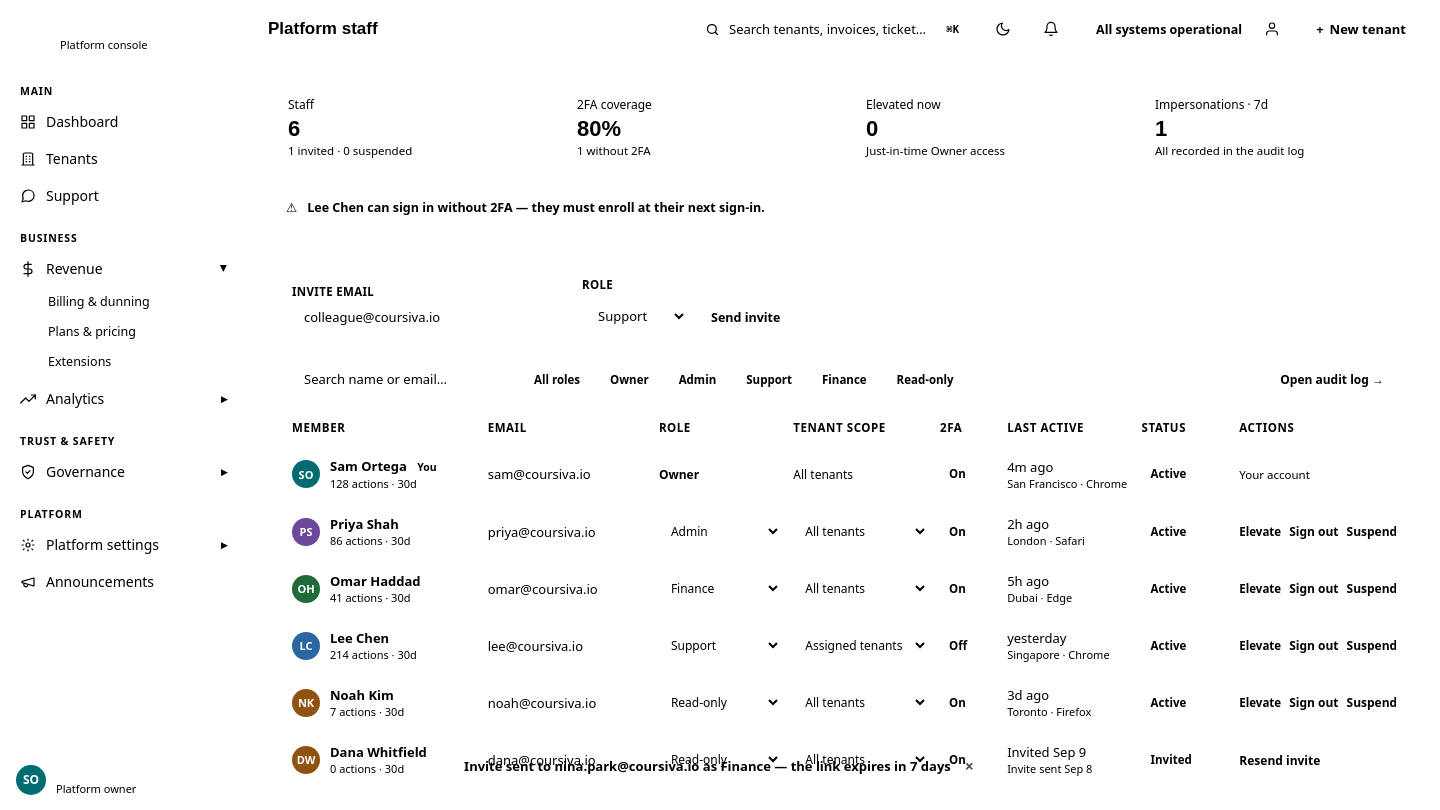
platform staff › validates the invite email client-side
The image size is (1440, 810).
In the field labelled "Invite email": (432, 317) [292, 300, 572, 334], type "not-an-email"
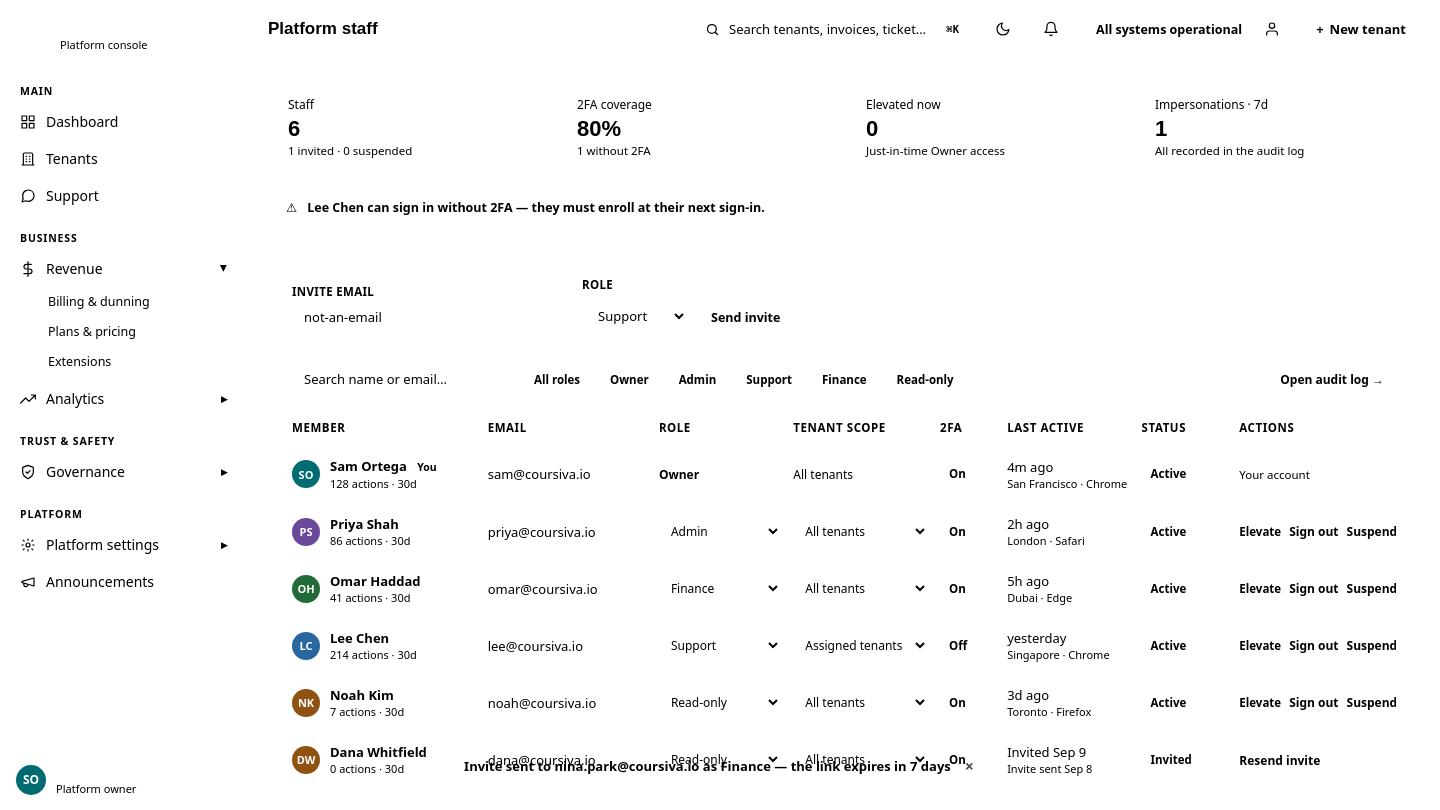
Click the button "Send invite": (746, 318) [697, 301, 794, 334]
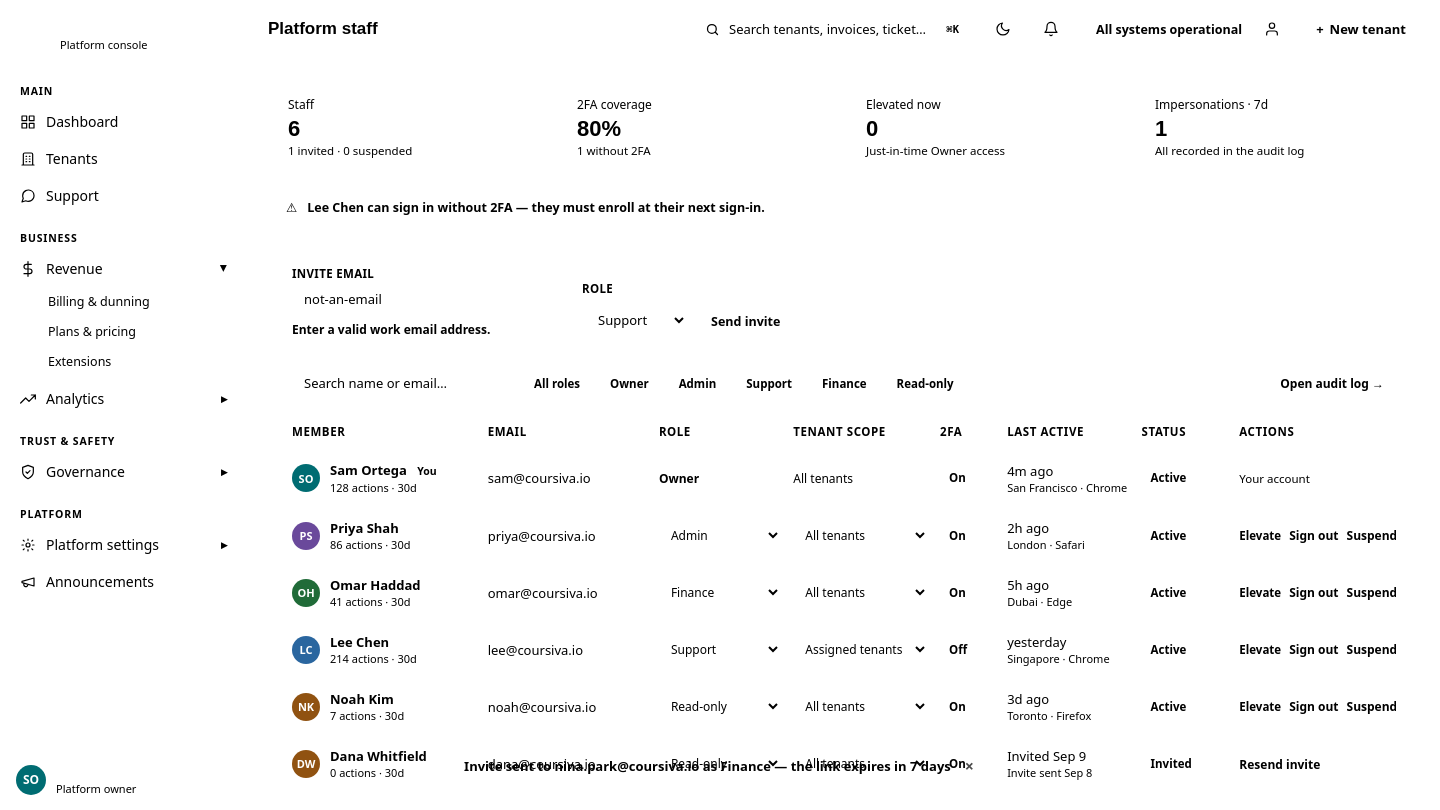
Now the text "Enter a valid work email address." is shown, box [292, 321, 490, 338]
